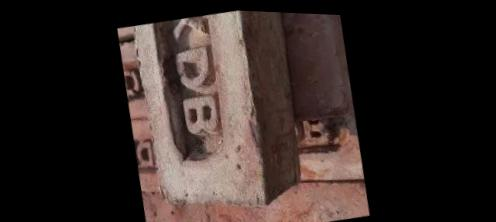brick: (124, 6, 277, 222), (208, 168, 371, 222)
